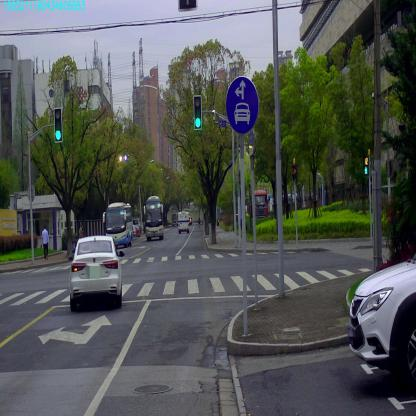traffic-light: (54, 108, 62, 142), (194, 96, 201, 129)
